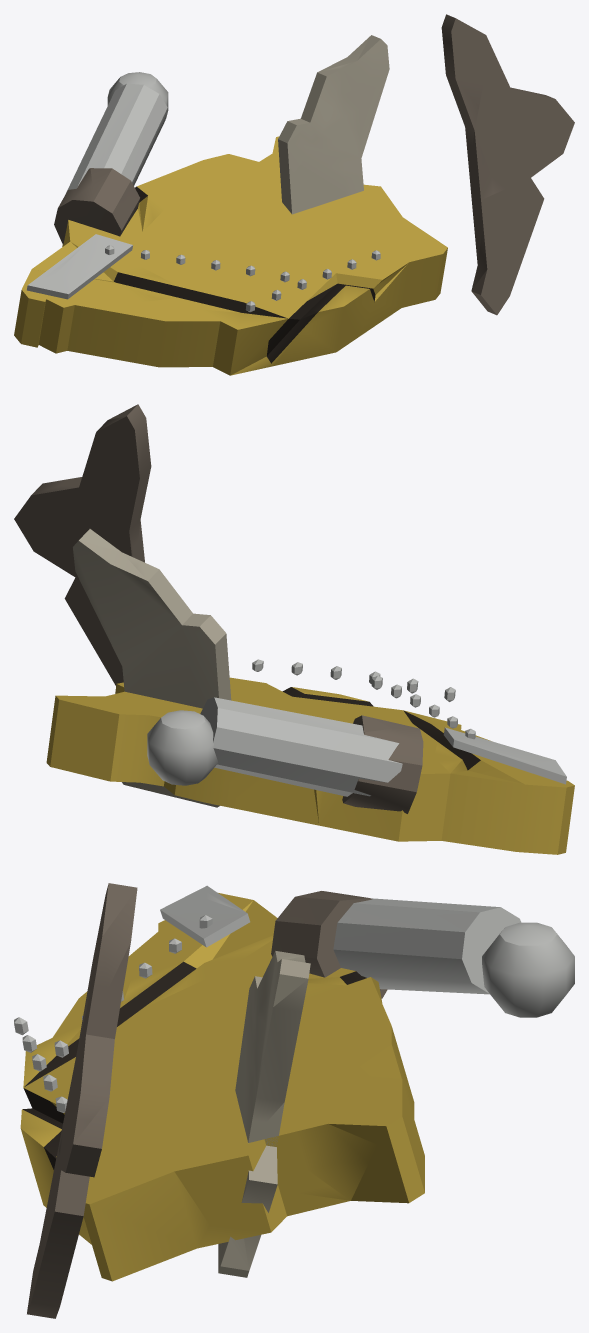
The model's file is crash-site-spaceship-wreck-small-5.glb.
3 renders of one model, top to bottom at view 1: azimuth 30°, elevation 25°; view 2: azimuth 150°, elevation 25°; view 3: azimuth 270°, elevation 25°, orthographic. The views are drawn at different scales.
Parts seen in each view (by area): view 1: body; view 2: body; view 3: body.
Boxes of the visible parts, bbox=[...] form: body: bbox=[14, 14, 574, 375]; body: bbox=[14, 404, 574, 854]; body: bbox=[14, 883, 574, 1318].
Size of the model in its own units: 1.79 by 0.9602 by 1.15.
